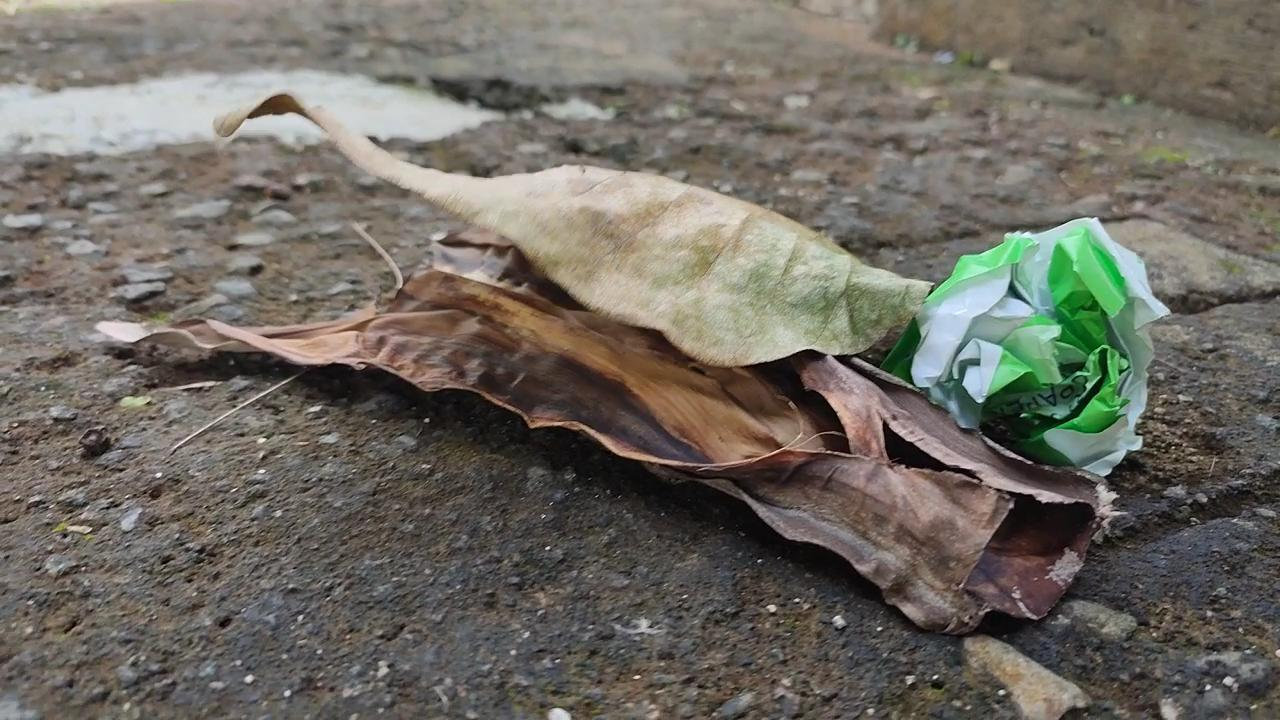Paper: (936, 211, 1171, 483)
